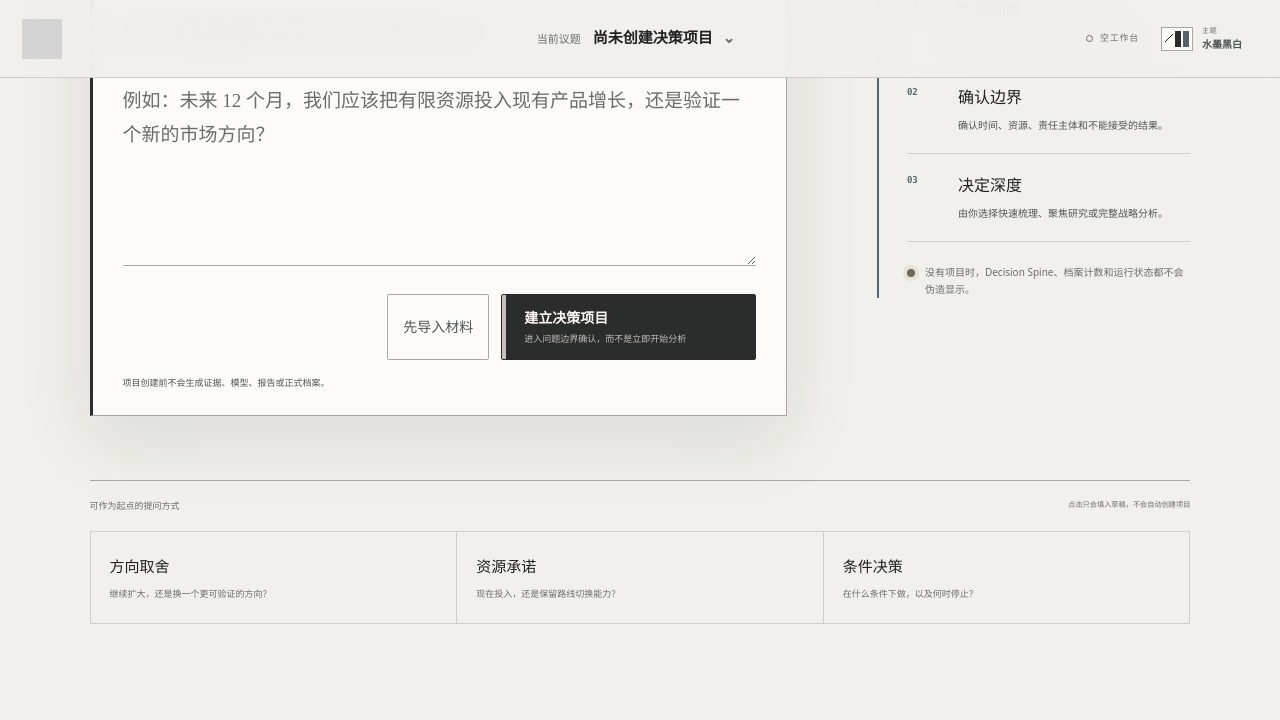
Test: DecisionShell Look V7 release gates › fills an example prompt, then creates the real decision case
(page scrolled)
Click the button "方向取舍 继续扩大，还是换一个更可验证的方向？" at x=140, y=567, box [91, 532, 457, 624]
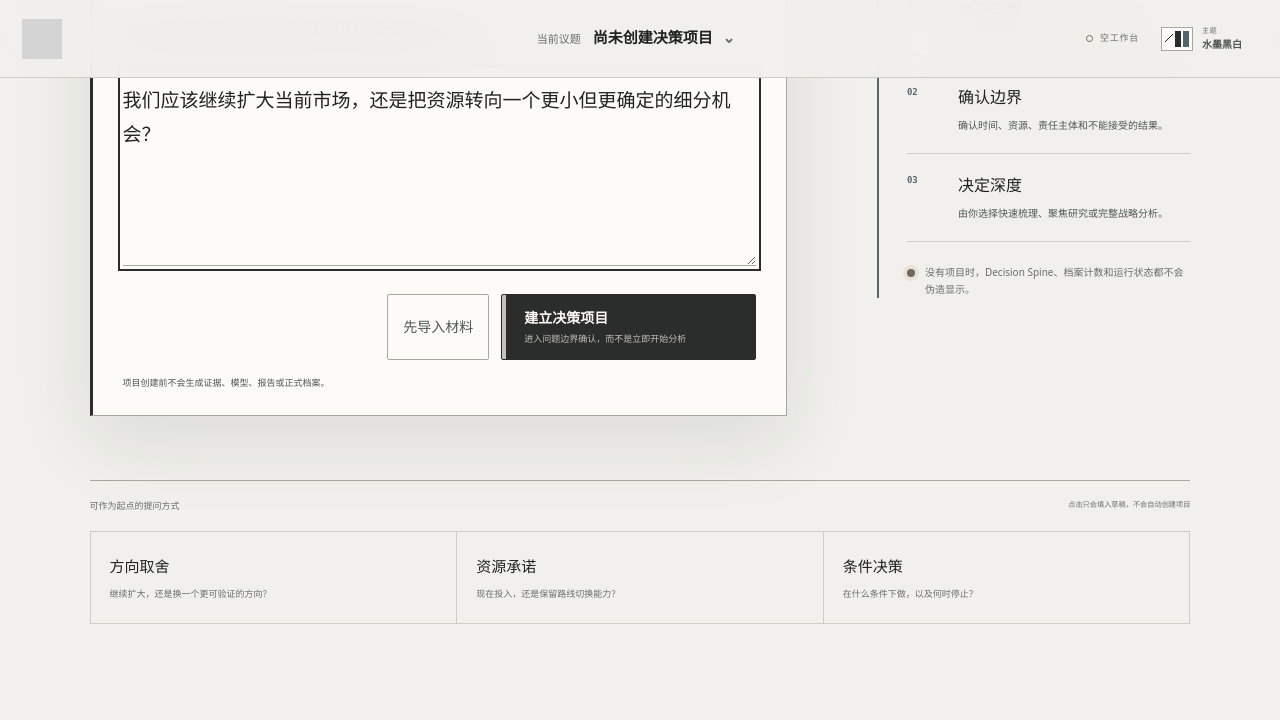
expect the text box labelled "现在最需要看清的取舍是什么？" holds "我们应该继续扩大当前市场，还是把资源转向一个更小但更确定的细分机会？": met, box [123, 70, 756, 266]
Click the button "建立决策项目 进入问题边界确认，而不是立即开始分析" at x=629, y=327, box [501, 294, 756, 360]
(page scrolled)
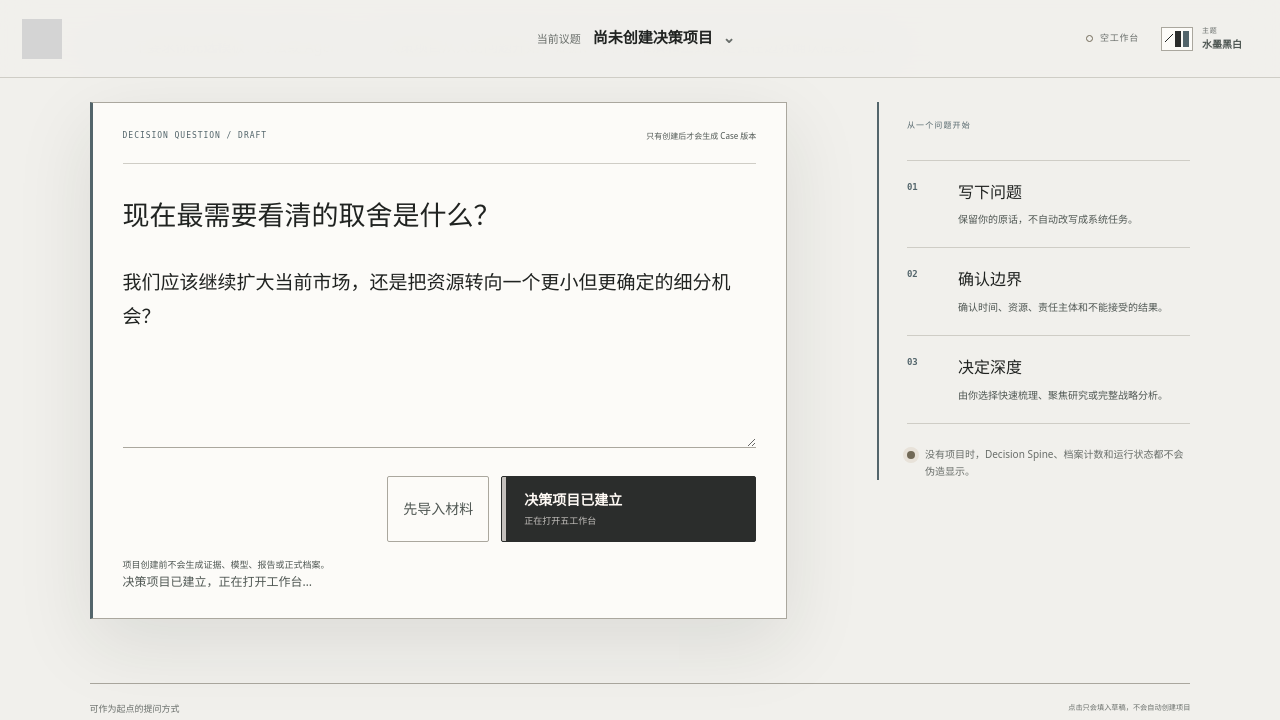
expect the message reads "决策项目已建立，正在打开工作台…": met, box [123, 573, 312, 590]
